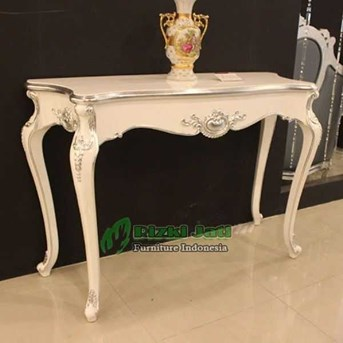Carving Table: (26, 69, 320, 314)
